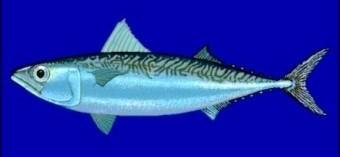fish: (11, 20, 326, 133)
